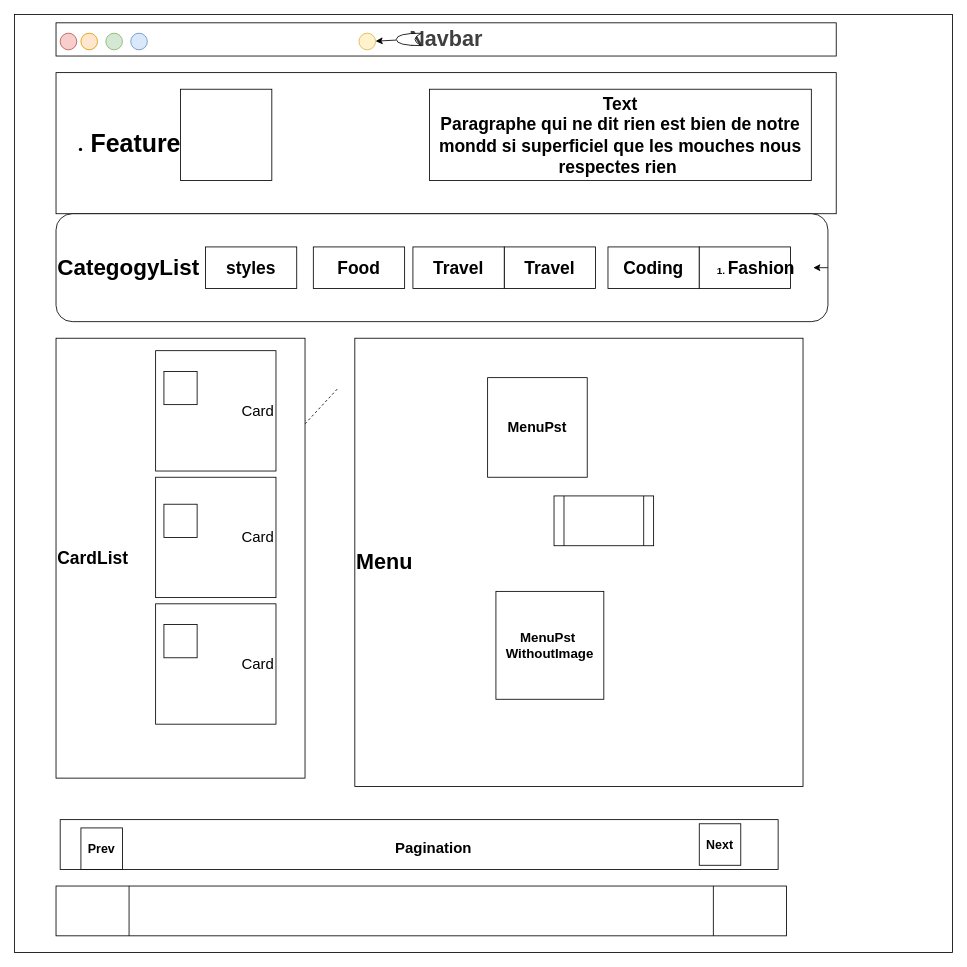
Image size: 967x967. Some labels were removed from this diagram. Here are the shapes that lost their labels. From the top down, the centre of each, then its label:
[603,520]: menuCategorie
[420,910]: Footer
